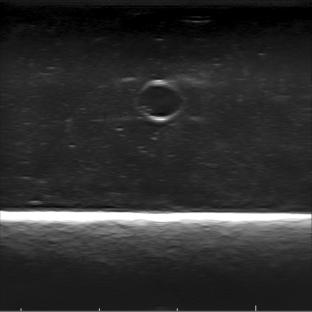vessel: (134, 78, 185, 122)
